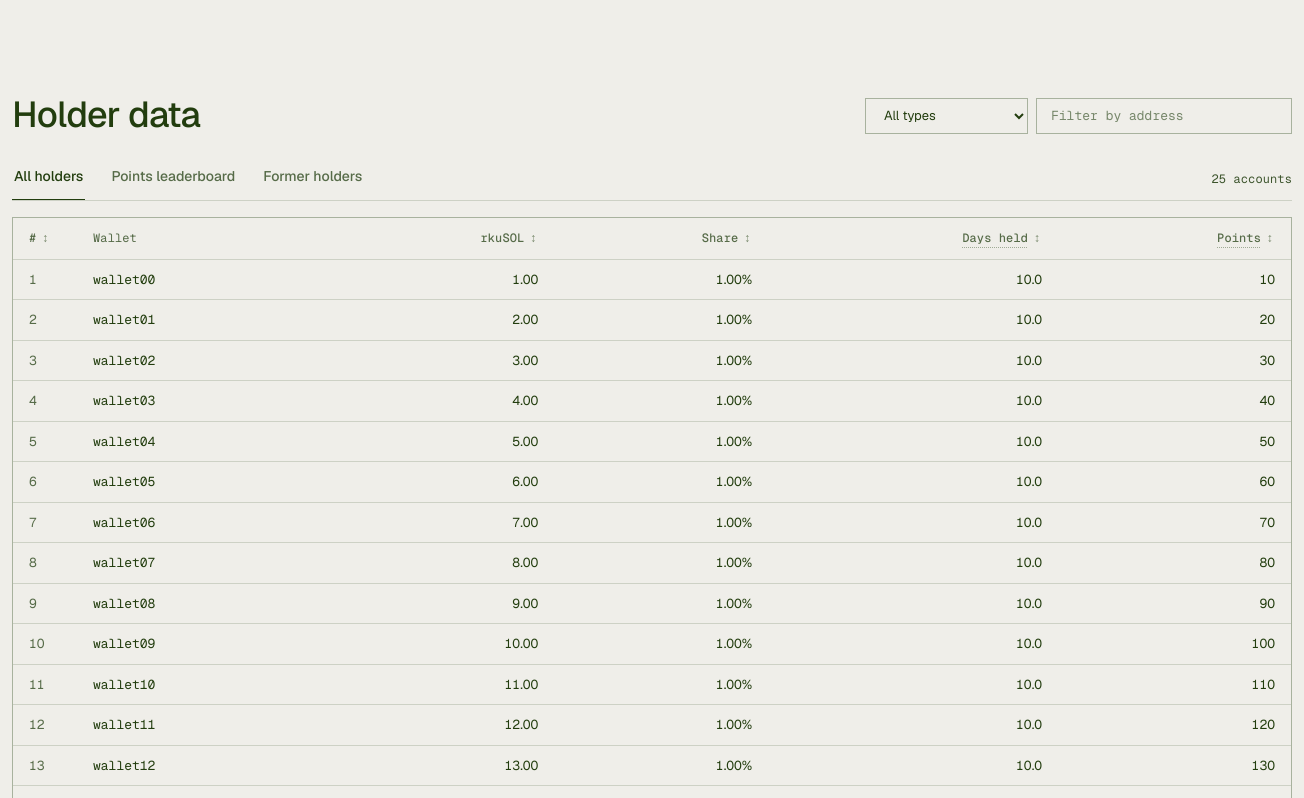
Scenario: holder data › lists former holders with the points they earned
What coordinates should you click on to do the following:
click the tab "Former holders"
I would click on:
 (313, 181)
Its box is [261,162,364,201].
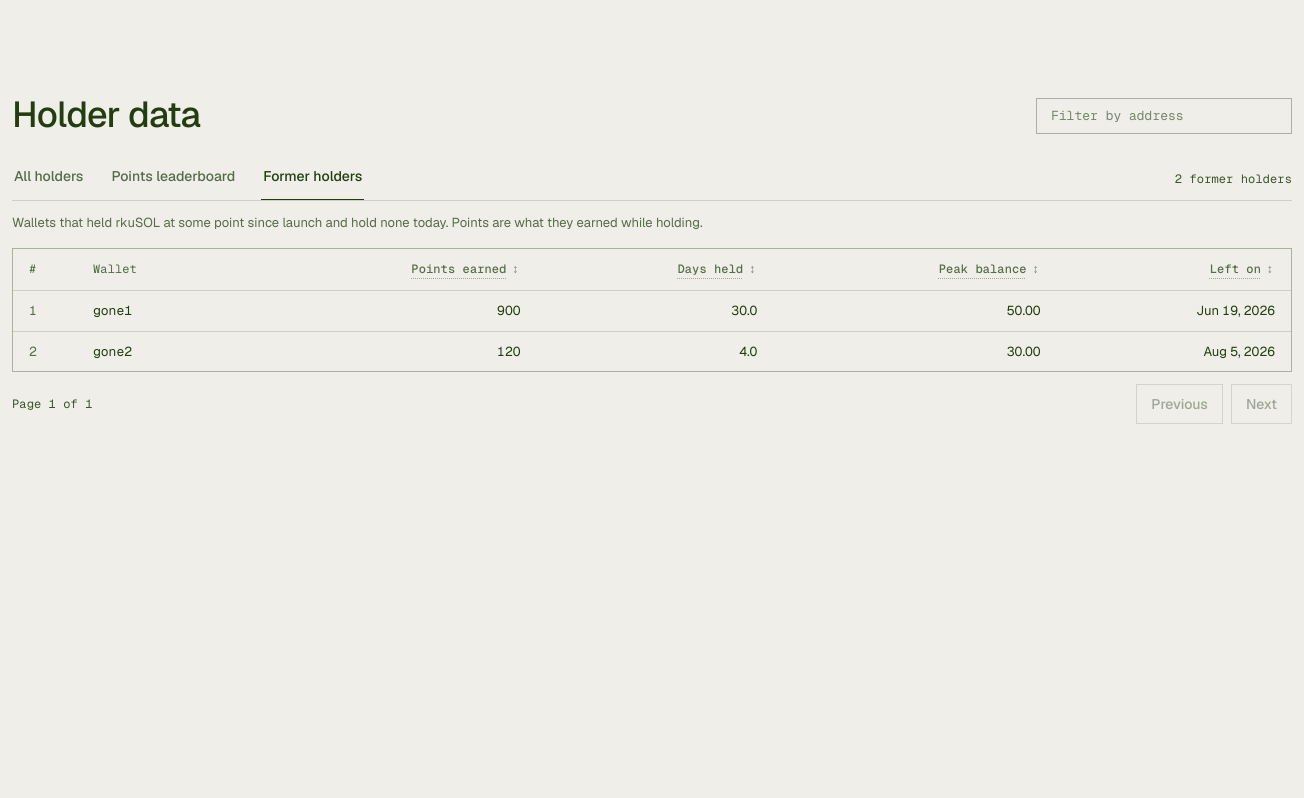
Now the text "2 former holders" is shown, box [1175,171,1292,187]
Now the link "gone1" is shown, box [93,302,132,319]
Now the text "900" is shown, box [238,291,536,331]
